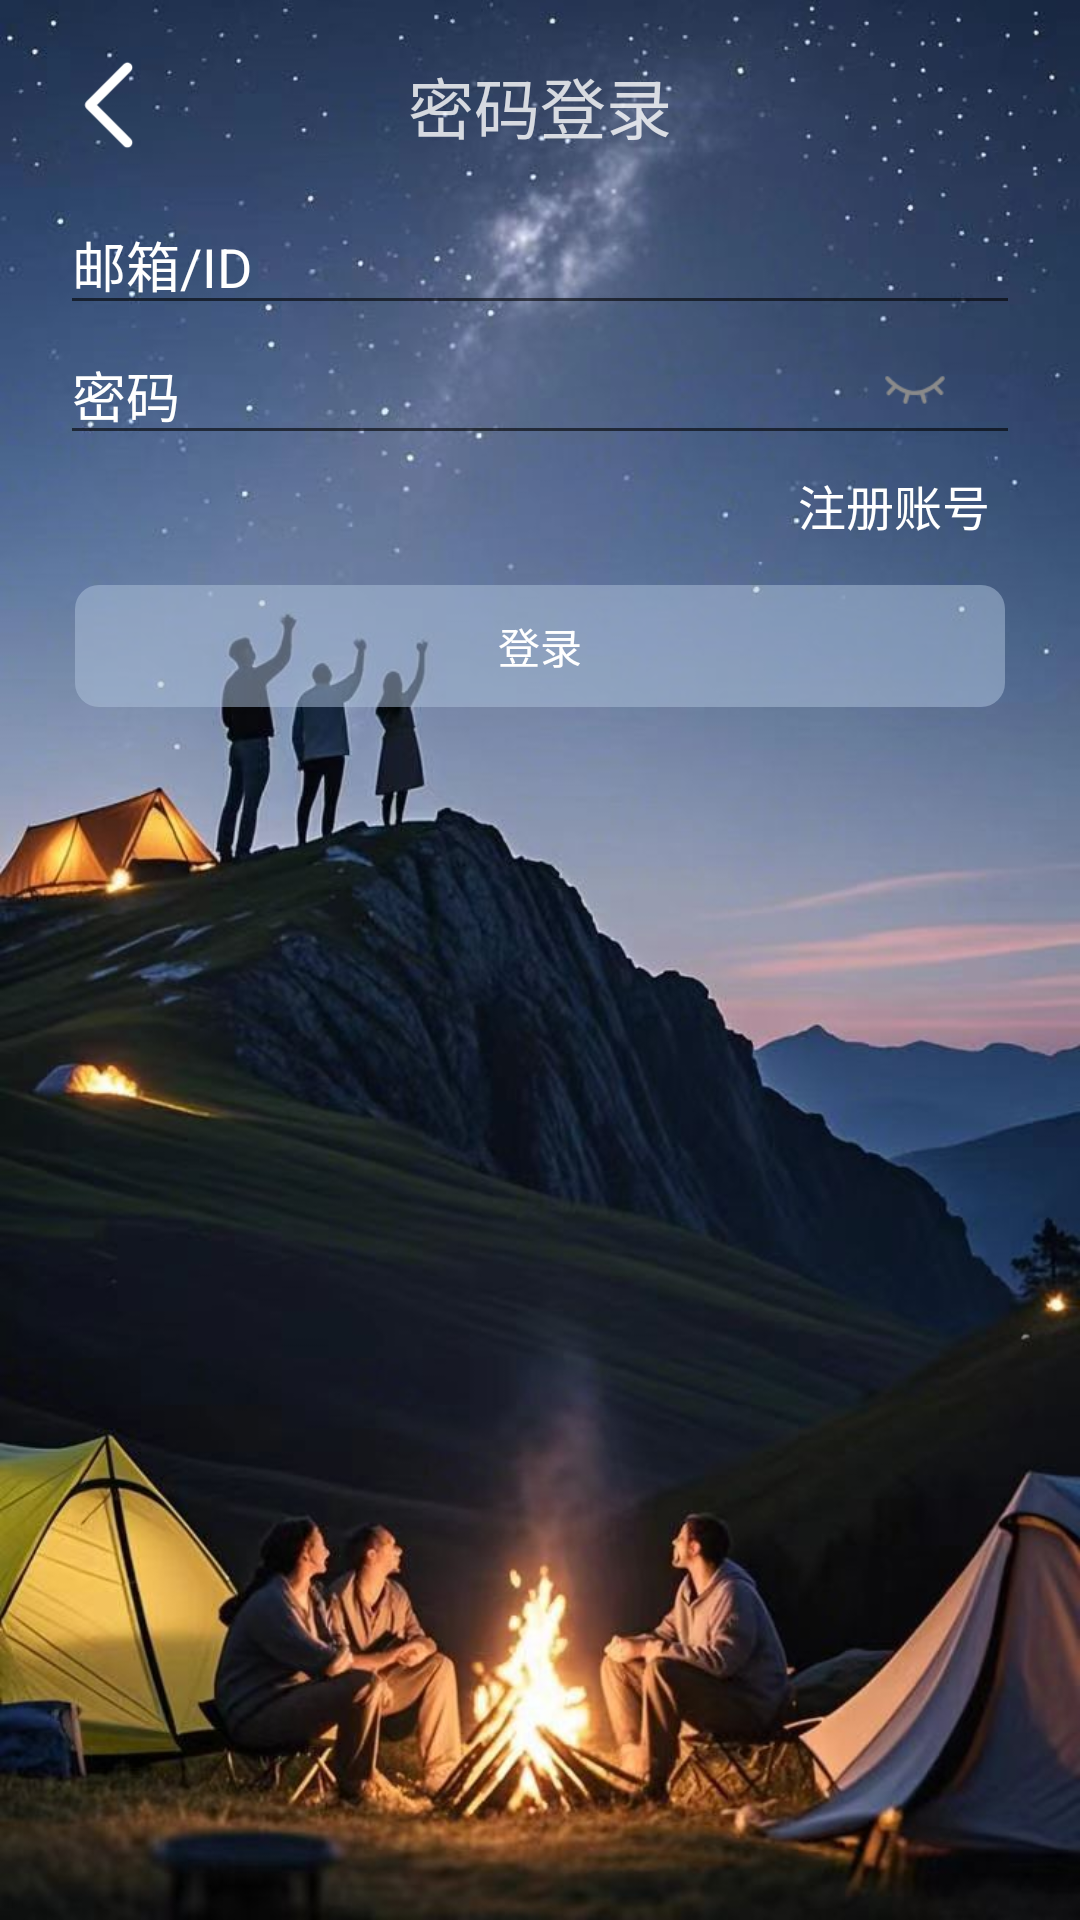

Point at icon controls on the screen. Image size 1080px x 1920px, points as [x,y].
back: [128,100]
eye closed: [915,390]
